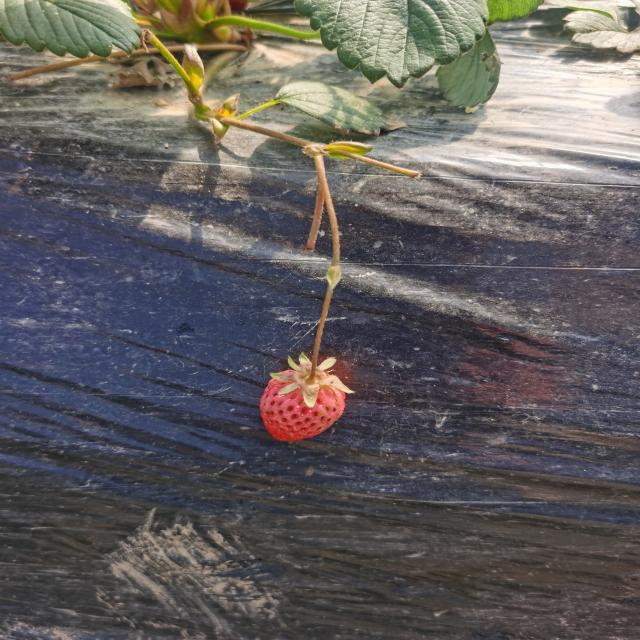stem: (305, 348, 319, 385)
strawberry: (260, 368, 347, 441)
